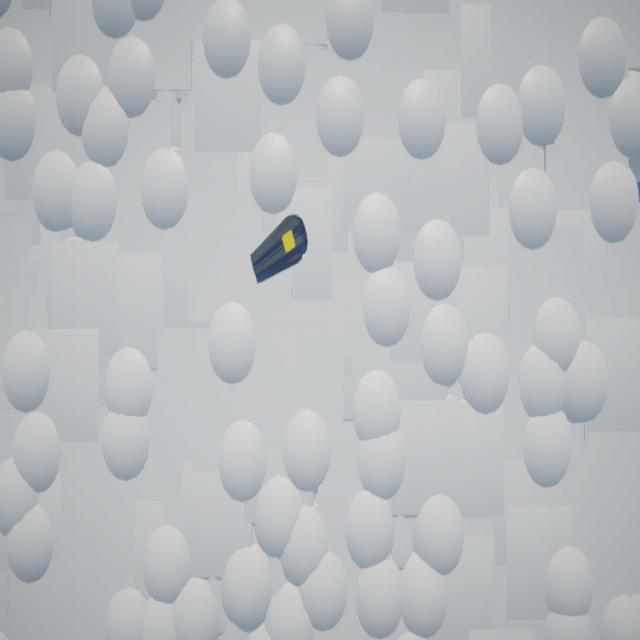handle_folk: (251, 216, 309, 285)
